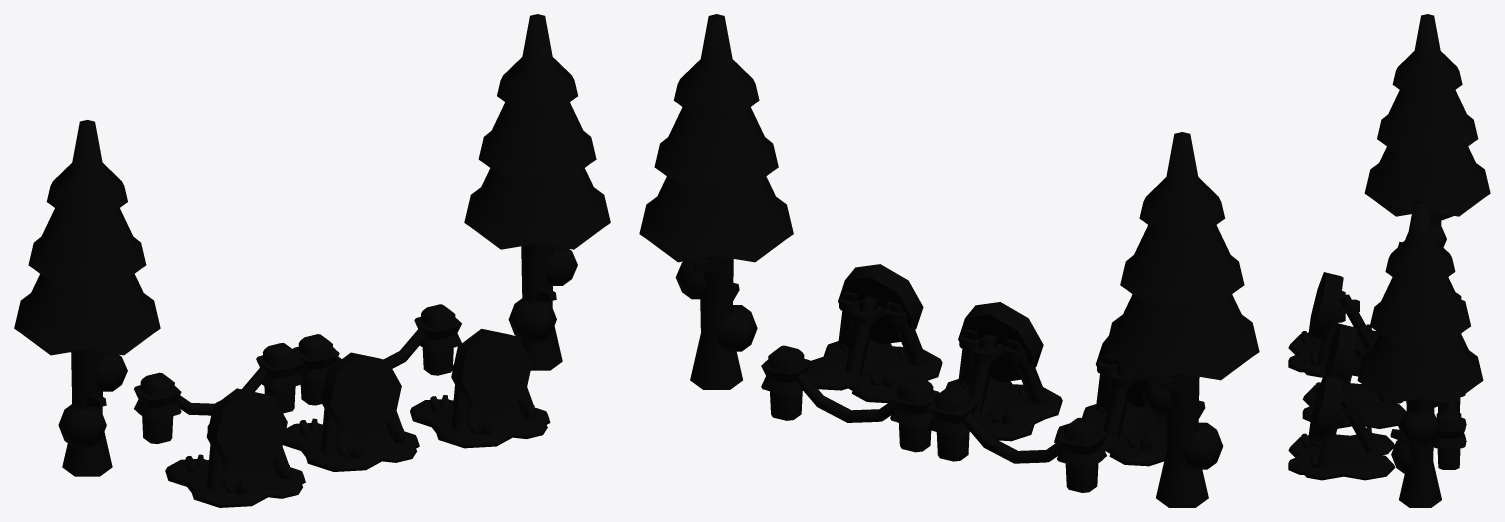
File: archery.glb
The picture shows the model from 3 angles, left to right: view 1: azimuth 30°, elevation 25°; view 2: azimuth 150°, elevation 25°; view 3: azimuth 270°, elevation 25°; orthographic projection. The views are drawn at different scales.
Parts seen in each view (by area): view 1: patch-grass; view 2: patch-grass; view 3: patch-grass.
Part boxes in pixels (bbox=[...]): patch-grass: bbox=[14, 14, 610, 507]; patch-grass: bbox=[639, 14, 1259, 507]; patch-grass: bbox=[1288, 14, 1490, 507].
Size of the model in its own units: 4.03 by 2.28 by 1.42.
Materials: 1 (1 with a texture image).
